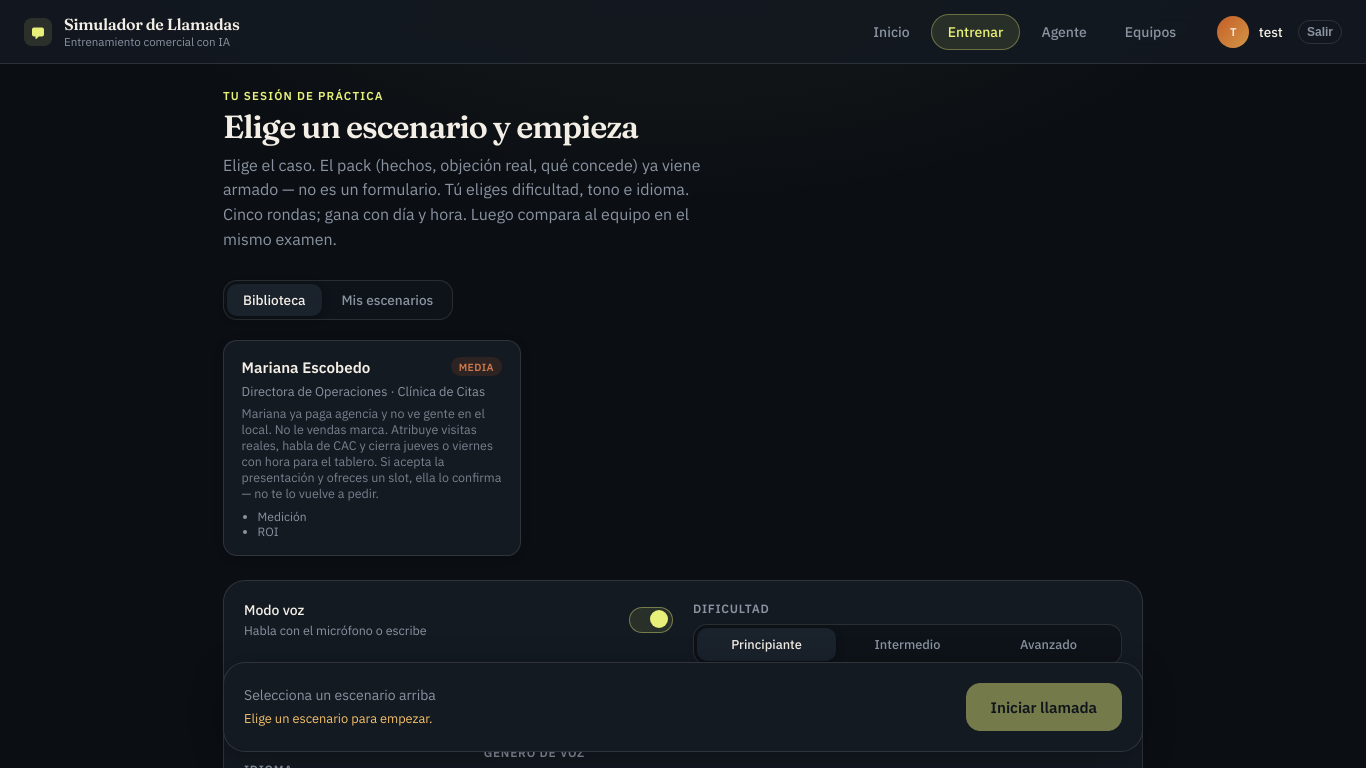
Scenario: Guardar y practicar › takes a custom example save into Entrenar with the case selected
Expected: the heading "Elige un escenario y empieza" is shown, [223,107,638,146]
Step 1. Click the button "Agente" → point(1064, 32), box [1024,14,1104,50]
(page scrolled)
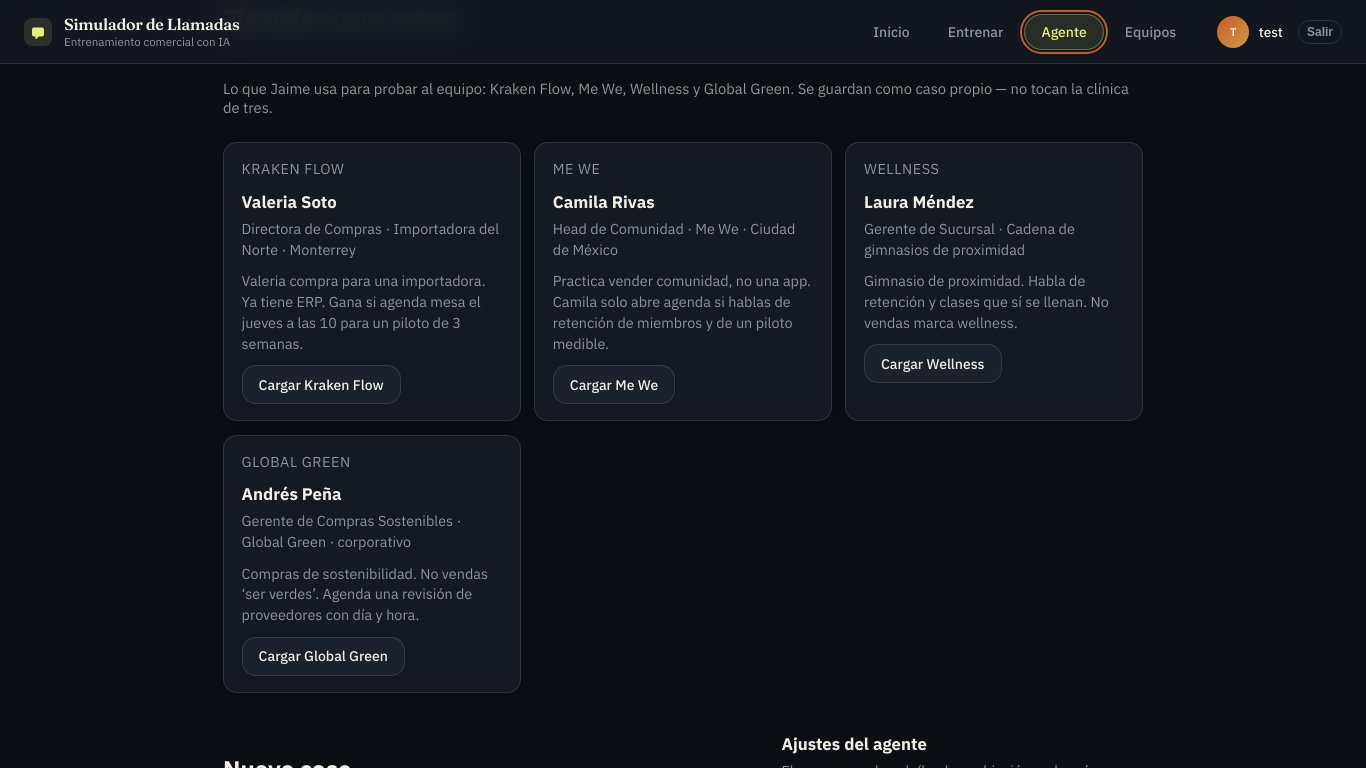
Step 2. Click the button "Cargar Kraken Flow" → point(321, 385), box [242,365,401,404]
(page scrolled)
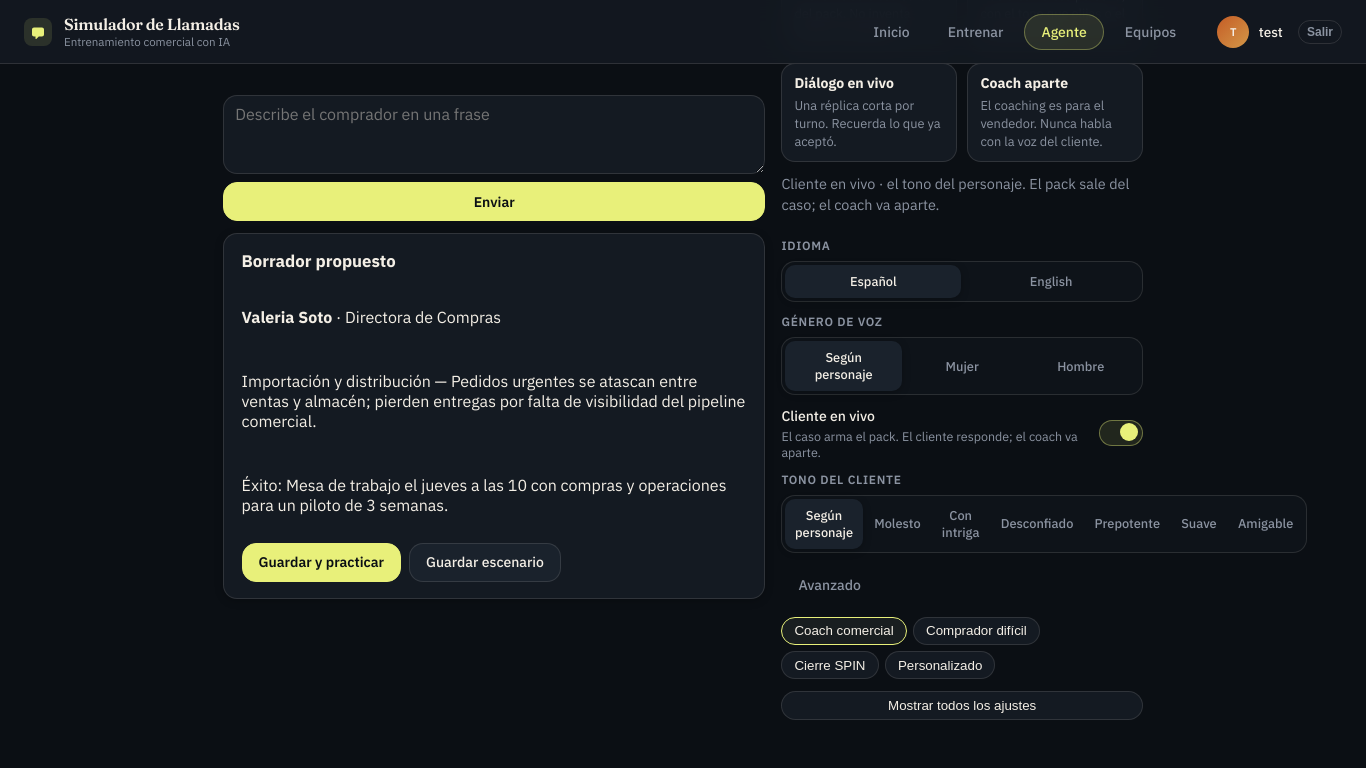
Now the heading "Borrador propuesto" is shown, box [242,250,396,272]
Step 3. Click the button "Guardar y practicar" → point(321, 562), box [242,543,401,582]
(page scrolled)
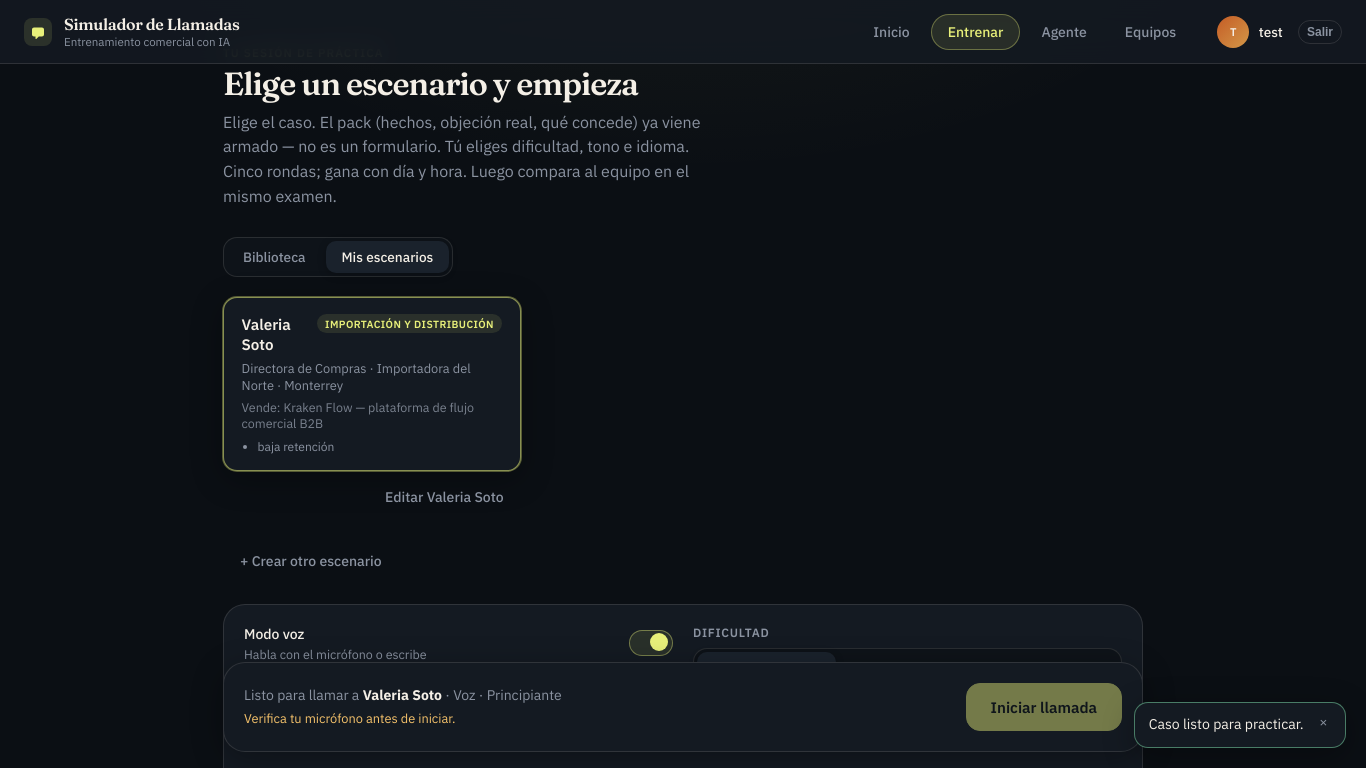
Now the heading "Elige un escenario y empieza" is shown, box [223,64,638,103]
Now the text "Caso listo para practicar." is shown, box [1149,715,1304,735]
